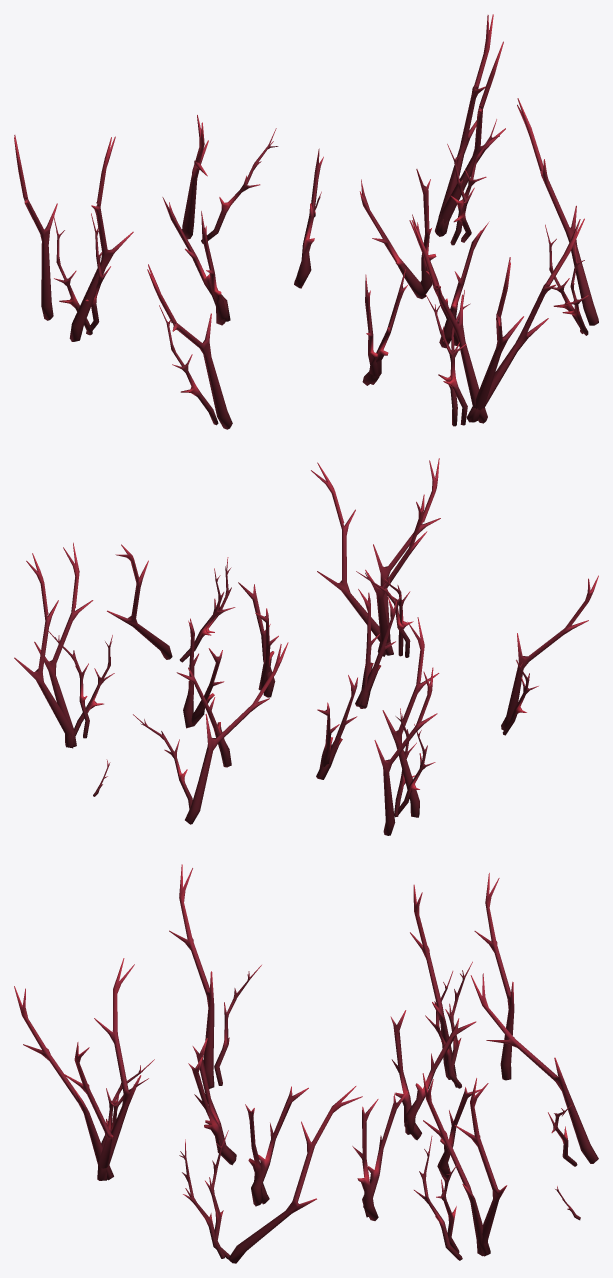
Rendered from D BarreraDeEspinasMesh.fbx.
3 views of the same model, one above another, from view 1: azimuth 30°, elevation 25°; view 2: azimuth 150°, elevation 25°; view 3: azimuth 270°, elevation 25° (orthographic). The views are drawn at different scales.
Visible parts, largest first — view 1: Espinas; view 2: Espinas; view 3: Espinas.
Boxes of the visible parts, x1,y1,x2,y2 form: Espinas: (14,14,598,429); Espinas: (14,458,598,835); Espinas: (14,864,598,1263).
Size of the model in its own units: 543 by 222 by 575.
1 material, 1 textured.
